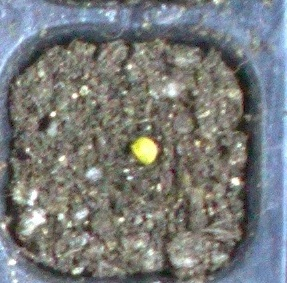chilli seed: (130, 136, 158, 166)
